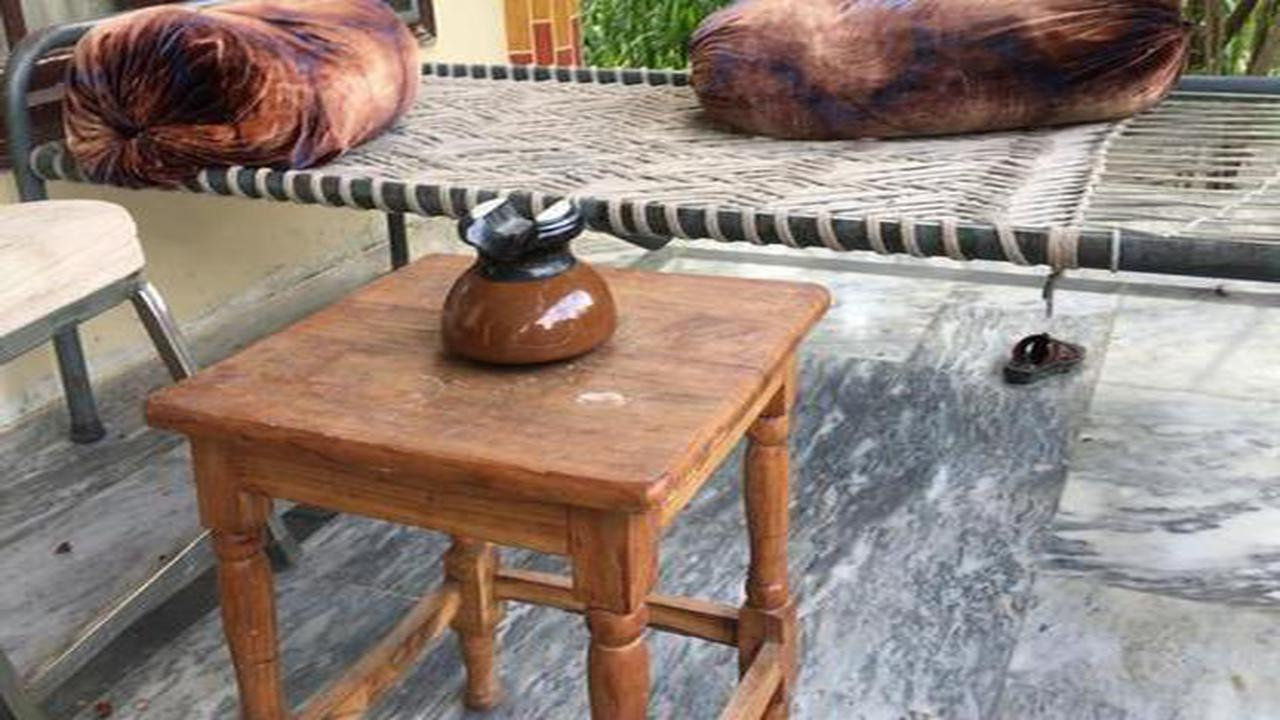insulator_pin: (419, 181, 634, 380)
